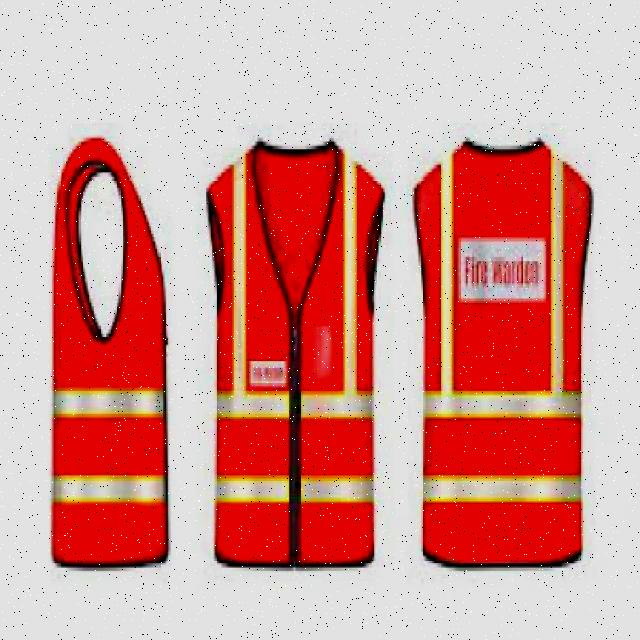Mask: (200, 131, 378, 567), (416, 134, 590, 578), (49, 117, 169, 563)
